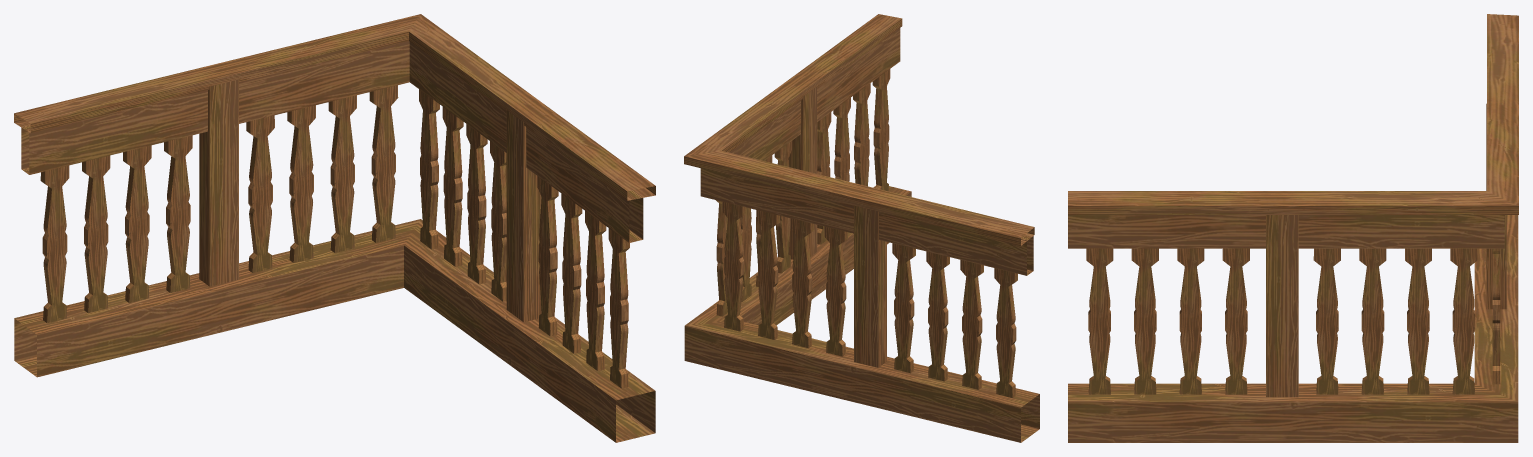
Rendered from Balcony_Simple_Corner.glb.
3 renders of one model, left to right at view 1: azimuth 30°, elevation 25°; view 2: azimuth 150°, elevation 25°; view 3: azimuth 270°, elevation 25°, orthographic. The views are drawn at different scales.
Visible parts, largest first — view 1: Balcony_Simple_Corner; view 2: Balcony_Simple_Corner; view 3: Balcony_Simple_Corner.
Part boxes in pixels (x1,y1,x2,y2): Balcony_Simple_Corner: [14, 14, 655, 442]; Balcony_Simple_Corner: [684, 14, 1039, 442]; Balcony_Simple_Corner: [1068, 14, 1518, 442].
Size of the model in its own units: 2.1 by 1.23 by 2.1.
Materials: 1 (1 with a texture image).
